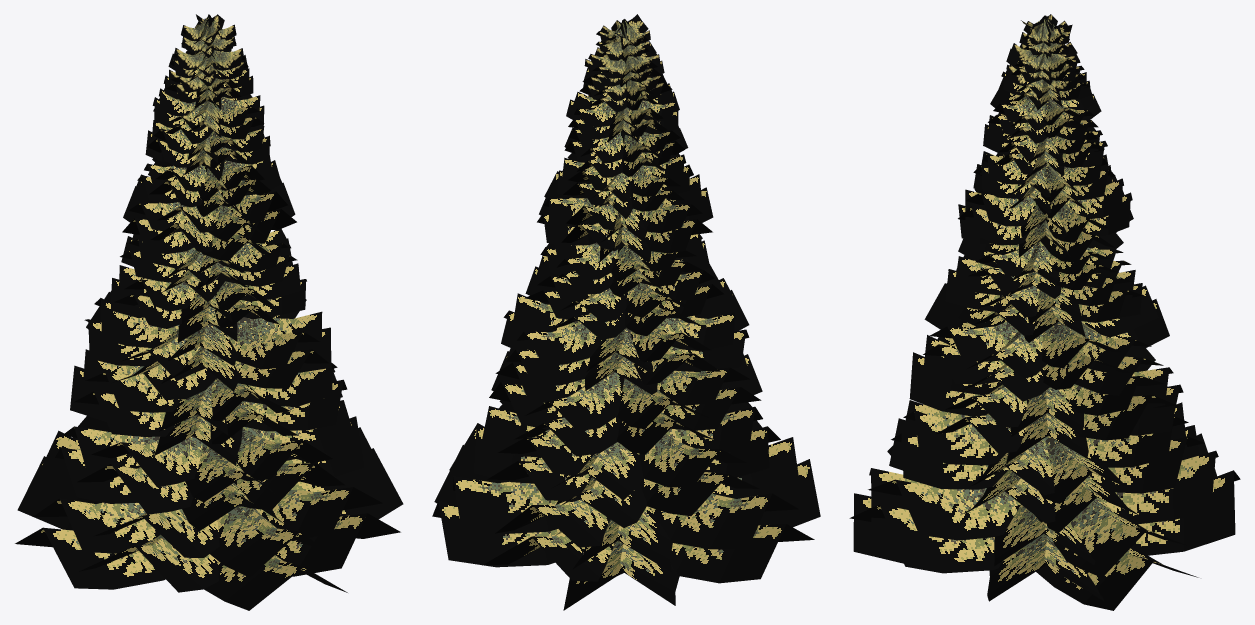
Rendered from big_tree.glb.
3 views of the same model, side by side, from view 1: azimuth 30°, elevation 25°; view 2: azimuth 150°, elevation 25°; view 3: azimuth 270°, elevation 25° (orthographic).
Parts seen in each view (by area): view 1: spiky_tree.001; view 2: spiky_tree.001; view 3: spiky_tree.001.
Part boxes in pixels (x1,y1,x2,y2): spiky_tree.001: (15,14,403,610); spiky_tree.001: (432,14,820,610); spiky_tree.001: (849,14,1240,610).
Bounding box in the file's own units: 26.56 × 41.84 × 27.24.
1 material, 1 textured.
